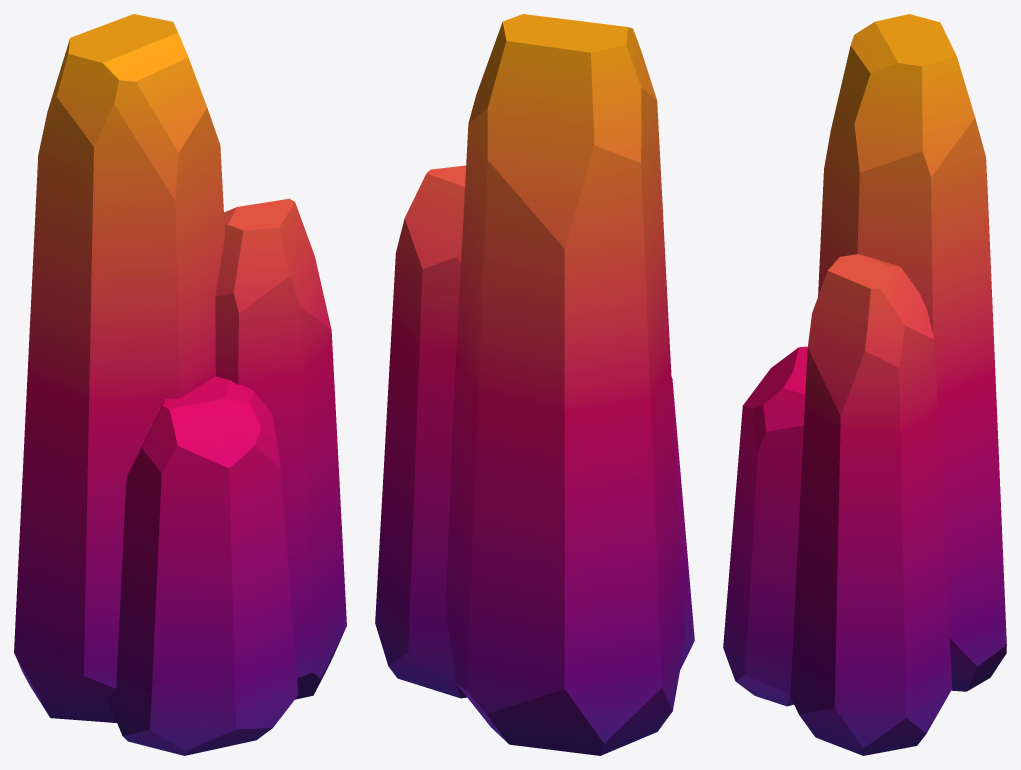
File: cristales15.fbx
The picture shows the model from 3 angles, left to right: view 1: azimuth 30°, elevation 25°; view 2: azimuth 150°, elevation 25°; view 3: azimuth 270°, elevation 25°; orthographic projection. The views are drawn at different scales.
Visible parts, largest first — view 1: cristal14; view 2: cristal14; view 3: cristal14.
Boxes of the visible parts, <box> form: cristal14: <box>14,14,346,755</box>; cristal14: <box>375,14,694,755</box>; cristal14: <box>723,14,1006,755</box>.
Bounding box in the file's own units: 627 × 1372 × 559.
Materials: 1 (1 with a texture image).
